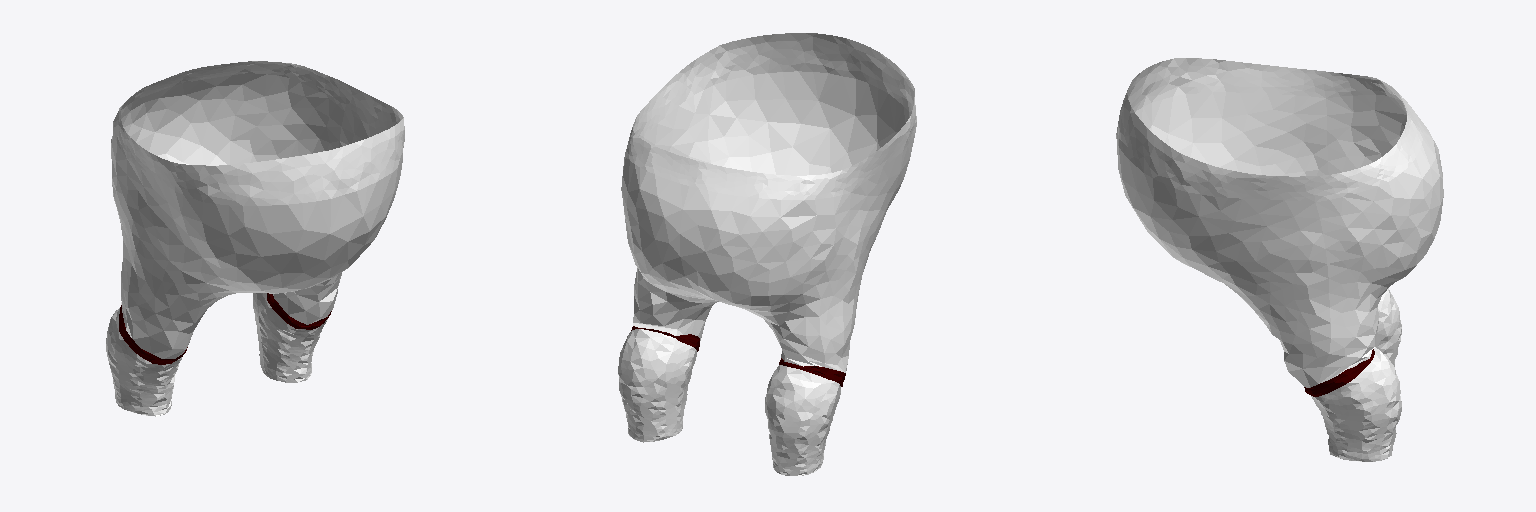
Rendered from God_pants.obj.
The picture shows the model from 3 angles: view 1: azimuth 30°, elevation 25°; view 2: azimuth 150°, elevation 25°; view 3: azimuth 270°, elevation 25°; orthographic projection.
Visible parts, largest first — view 1: object; view 2: object; view 3: object.
Part boxes in pixels (left/top/right/bottom): object: left=106, top=61, right=404, bottom=416; object: left=618, top=33, right=916, bottom=475; object: left=1116, top=58, right=1443, bottom=461.
Size of the model in its own units: 0.2343 by 0.3223 by 0.2948.